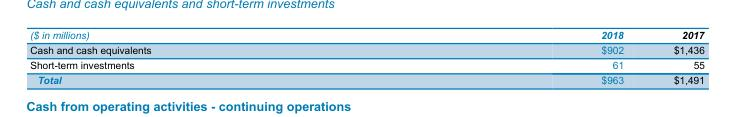table: (29, 28, 703, 85)
table column: (29, 28, 375, 85), (375, 28, 647, 85), (647, 28, 703, 85)
table column header: (29, 28, 703, 41)
table row: (29, 41, 703, 57), (29, 57, 703, 72), (29, 28, 703, 41), (29, 72, 703, 85)
